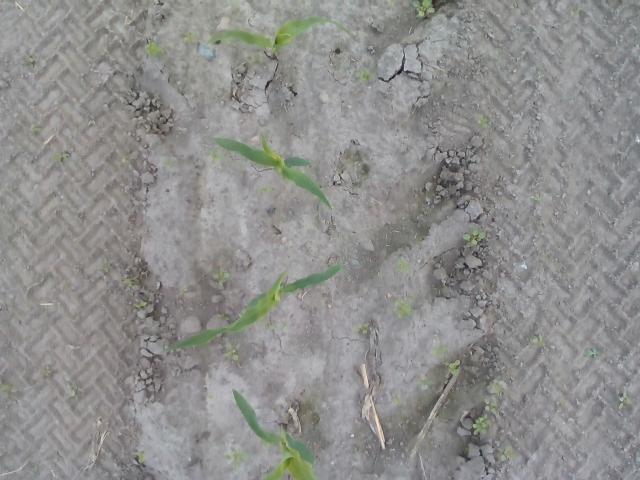Maize: (160, 262, 342, 354), (211, 136, 332, 210), (232, 386, 318, 480), (206, 14, 357, 57)
Weeds: (225, 446, 248, 468), (411, 0, 436, 18), (392, 299, 412, 319), (463, 230, 488, 246), (473, 415, 491, 436), (210, 270, 232, 286), (223, 342, 240, 362), (144, 38, 160, 58), (482, 399, 498, 416), (442, 360, 458, 376), (1, 383, 16, 400), (496, 446, 513, 460), (359, 67, 376, 81), (51, 150, 70, 162), (582, 346, 598, 360), (354, 321, 368, 335), (208, 150, 224, 162), (184, 31, 198, 43), (432, 346, 448, 356), (530, 336, 544, 347), (254, 186, 274, 193), (478, 116, 489, 128), (176, 287, 188, 296), (134, 299, 146, 308), (136, 452, 144, 464)
